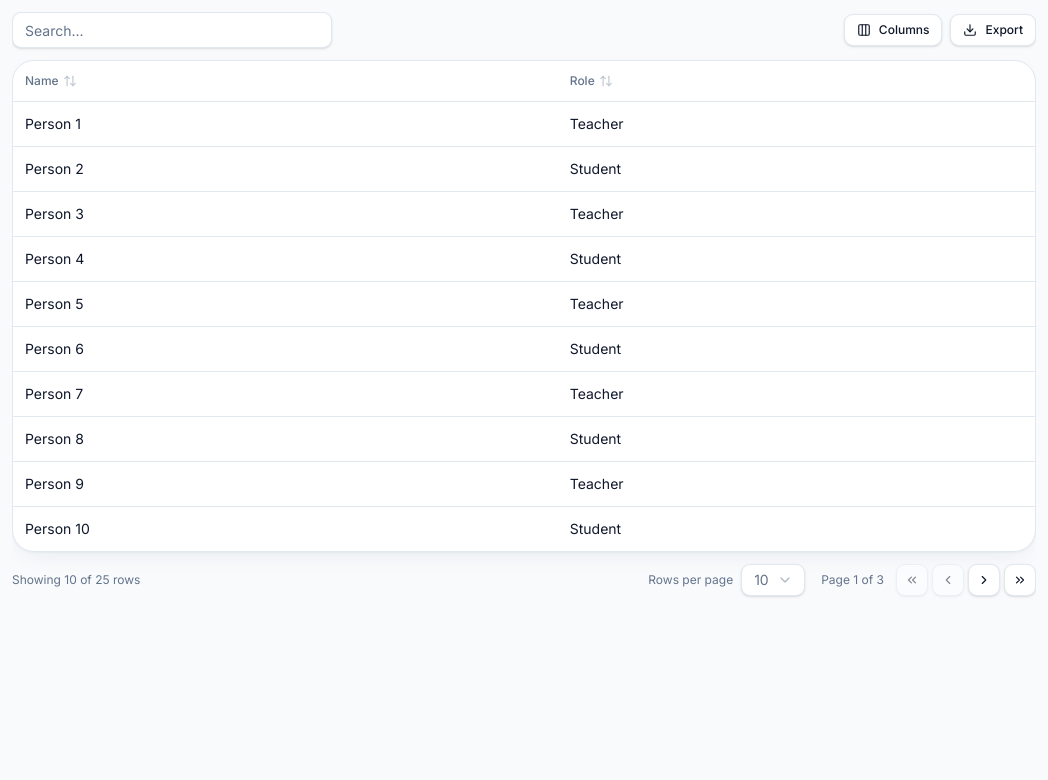
DataTable — pagination › jumps to the last page directly
Click the 8th button. click: (1020, 580)
box: [1004,564,1036,596]
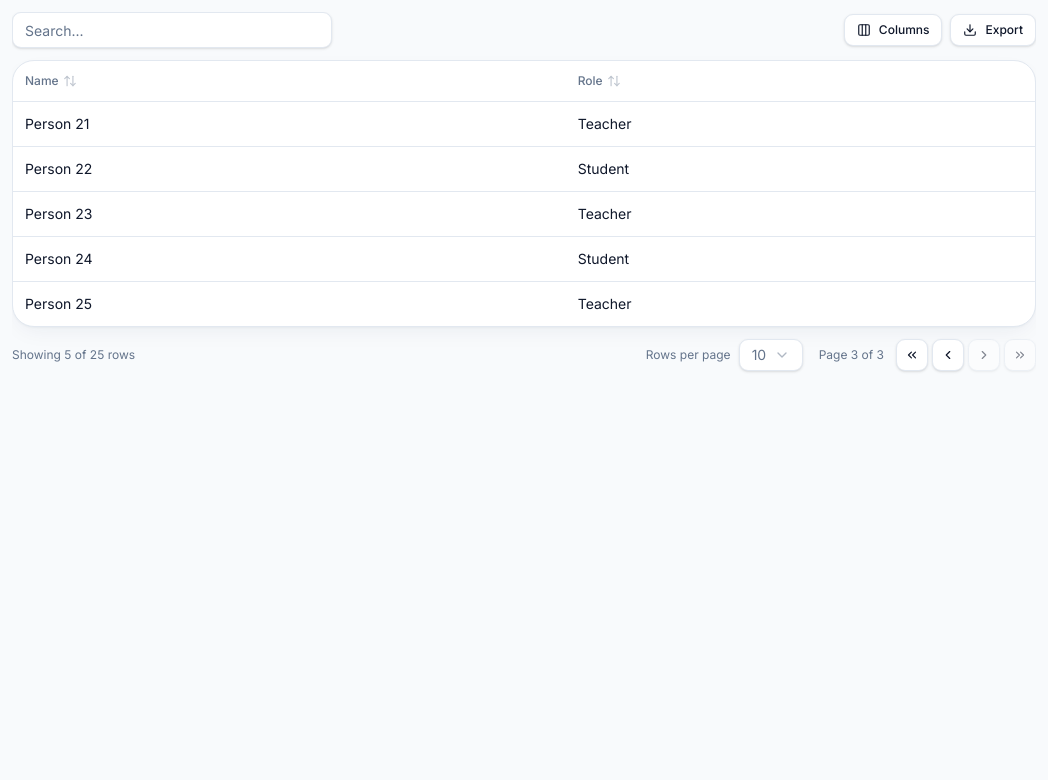
expect the text "Page 3 of 3" is shown: met, box [819,346,884,362]
